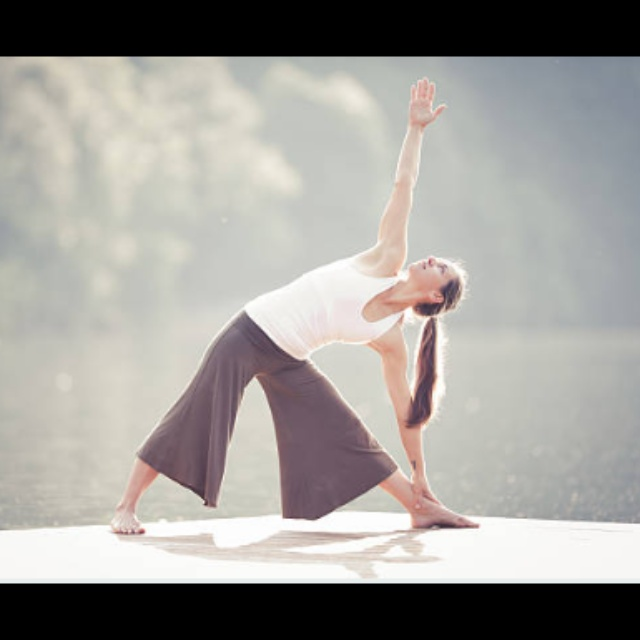Triangle_Pose: (88, 66, 499, 546)
